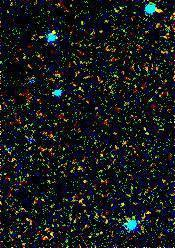star: (36, 16, 66, 46)
